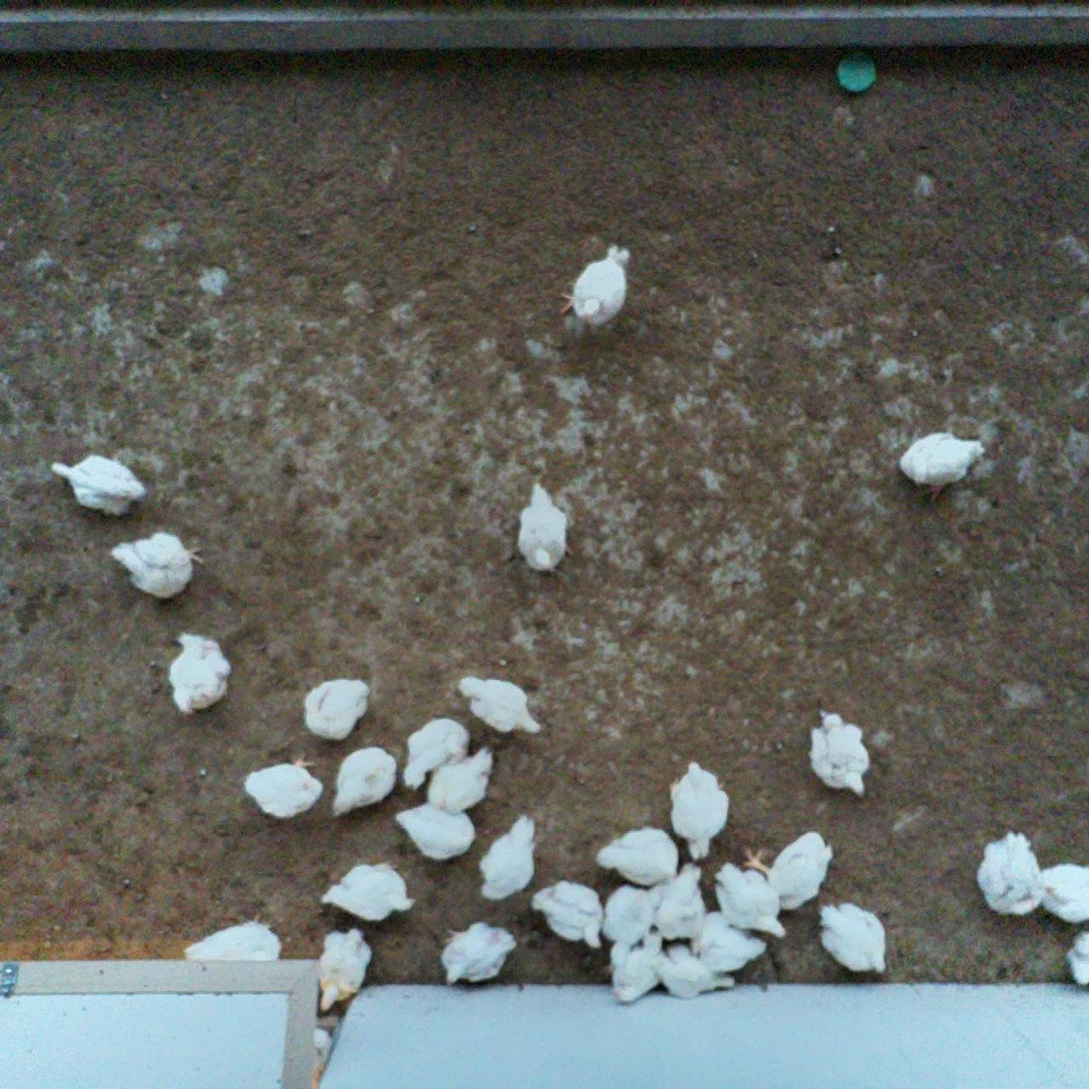chicken: (746, 834, 833, 911), (111, 531, 204, 601), (899, 431, 985, 501), (669, 761, 731, 858), (50, 454, 145, 517), (560, 244, 631, 328), (713, 863, 789, 940), (318, 860, 416, 919), (166, 630, 229, 717), (401, 715, 471, 791), (516, 483, 573, 576), (439, 920, 515, 989), (460, 674, 543, 736), (688, 911, 768, 975), (819, 900, 886, 976), (812, 711, 869, 800), (981, 831, 1042, 914), (328, 747, 398, 819), (479, 816, 539, 900), (600, 825, 680, 888), (318, 928, 376, 1014), (533, 883, 606, 951), (396, 799, 477, 860), (182, 916, 282, 964), (653, 944, 740, 999), (427, 745, 496, 812), (601, 932, 664, 1003), (244, 763, 325, 817), (305, 676, 373, 740), (659, 866, 709, 944), (597, 885, 659, 946), (1038, 862, 1089, 923), (1066, 931, 1089, 990)
